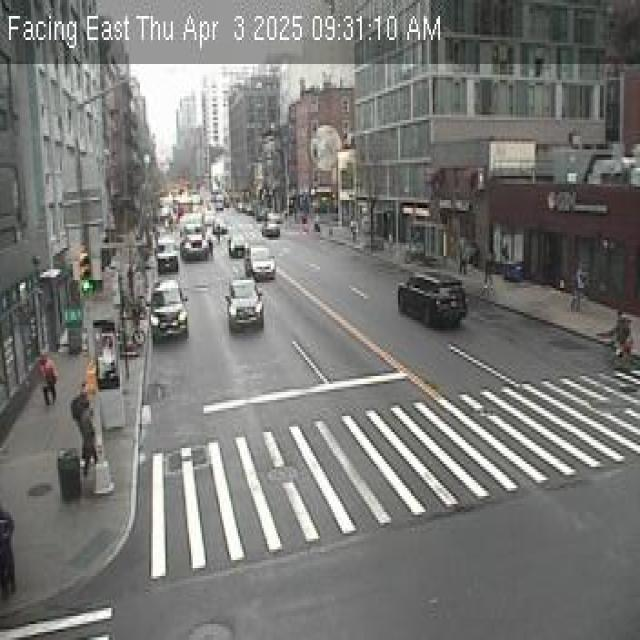open parking: (118, 306, 209, 484), (148, 260, 199, 291)
